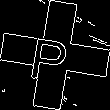P_N: (33, 27, 77, 83)
